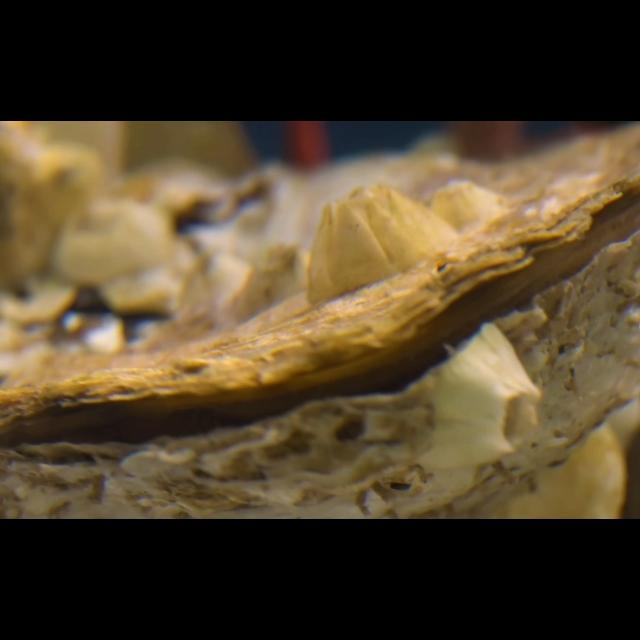Oyster-Open: (0, 123, 640, 519)
